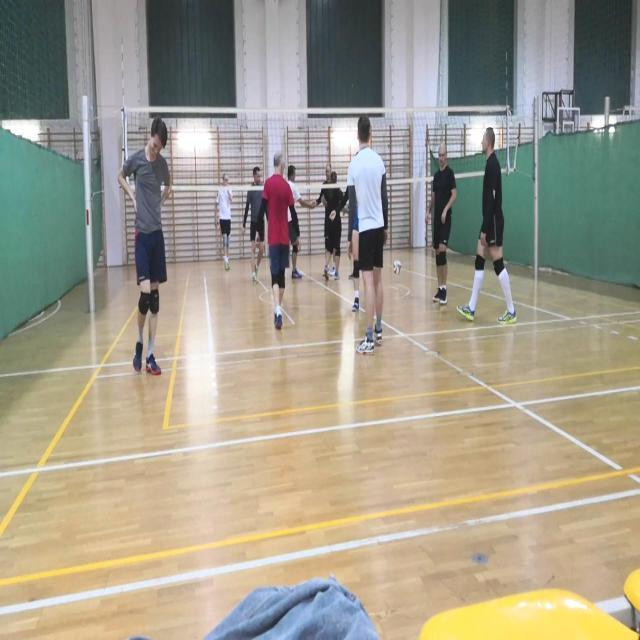volleyball: (393, 260, 401, 274)
